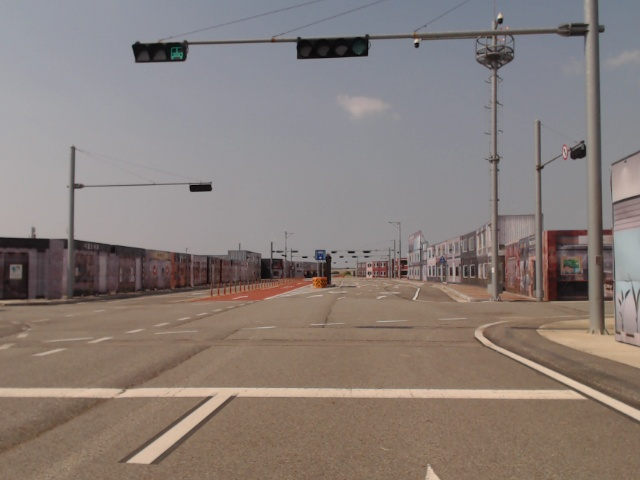straight_green_4: (298, 37, 370, 56)
